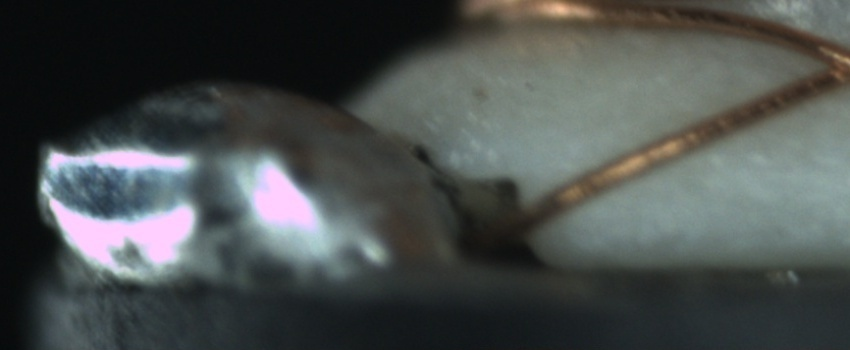CL: (802, 29, 848, 97)
